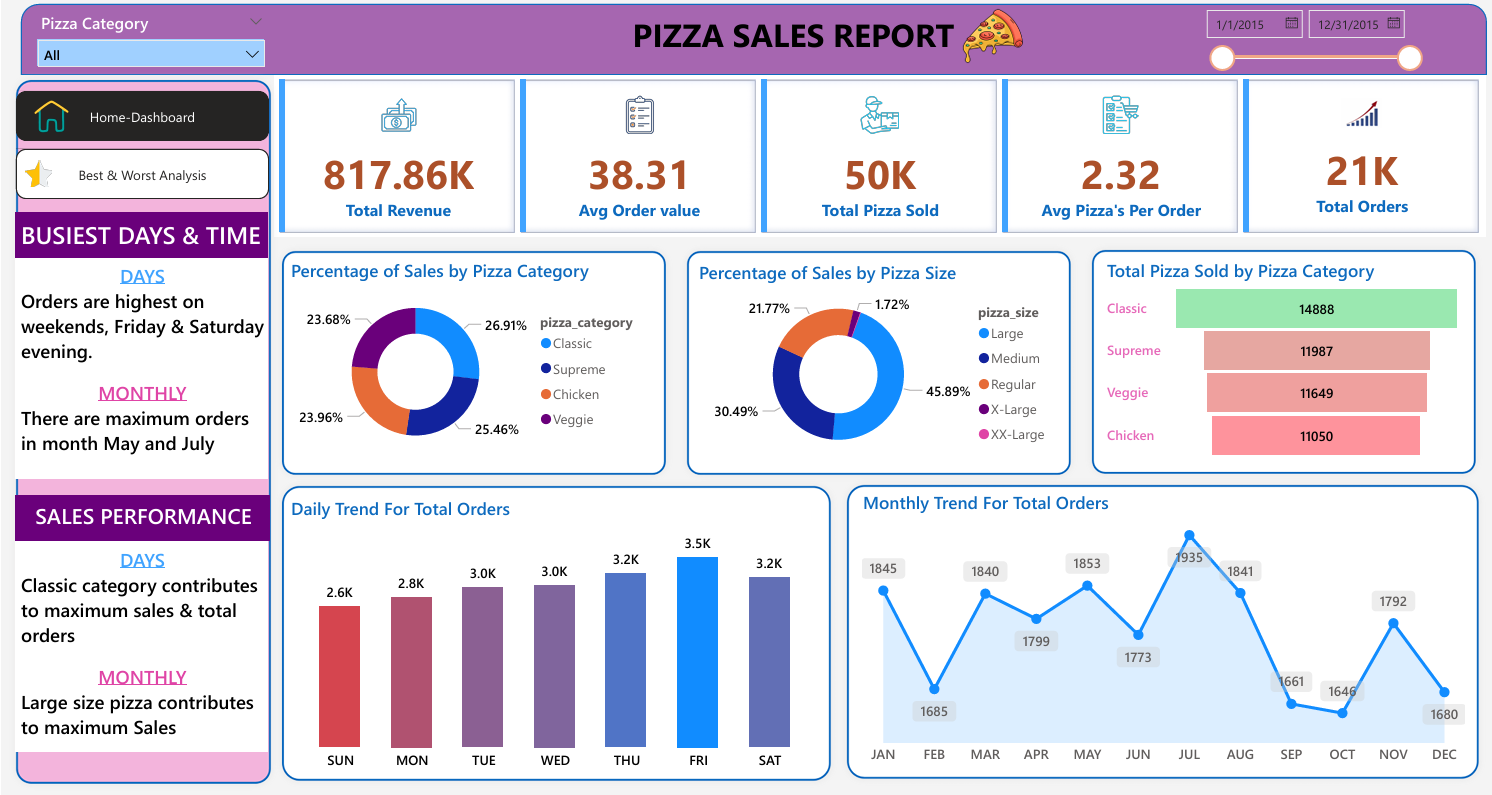

The dashboard page shown, as its layout file describes it:
{"tool":"powerbi","page":{"name":"Home-Dashboard","canvas":[1500,820],"ordinal":0},"visuals":[{"type":"cardVisual","fields":{"Data":["Pizza_sold.Total Revenue","Pizza_sold.Avg Order value","Pizza_sold.Total Pizza Sold","Pizza_sold.Avg Pizza's Per Order","Pizza_sold.Total Orders"]},"box":[273,75.2,1211.6,162.9],"z":0},{"type":"shape","box":[19.5,4.2,1465.1,71],"z":1000},{"type":"textbox","box":[603,7,377.4,59.9],"z":2000},{"type":"shape","box":[271.6,478.1,565.4,310.6],"z":3000},{"type":"columnChart","title":"Daily Trend For Total Orders","fields":{"Category":["Pizza_sold.Order Day"],"Y":["Pizza_sold.Total Orders"]},"box":[284.1,495.8,539,284.1],"z":4000},{"type":"shape","box":[837,476.7,647.6,310.6],"z":5000},{"type":"areaChart","title":"Monthly Trend For Total Orders","fields":{"Category":["Pizza_sold.Order month"],"Y":["Pizza_sold.Total Orders"]},"box":[856.5,490.2,611.4,284.1],"z":6000},{"type":"shape","box":[271.6,243.4,400,240],"z":7000},{"type":"shape","box":[677,243.4,399.7,239.5],"z":8000},{"type":"shape","box":[1082.1,242,399.7,239.5],"z":9000},{"type":"donutChart","title":"Percentage of Sales by Pizza Category","fields":{"Y":["Pizza_sold.Total Revenue"],"Category":["Pizza_sold.pizza_category"]},"box":[284.1,257.6,367.7,206.1],"z":10000},{"type":"donutChart","title":"Percentage of Sales by Pizza Size","fields":{"Y":["Pizza_sold.Total Revenue"],"Category":["Pizza_sold.pizza_size"]},"box":[692.2,260.4,369.1,206.1],"z":11000},{"type":"funnel","title":"Total Pizza Sold by Pizza Category","fields":{"Category":["Pizza_sold.pizza_category"],"Y":["Pizza_sold.Total Pizza Sold"]},"box":[1100.2,257.6,364.9,206.1],"z":12000},{"type":"shape","box":[5.6,72.4,271.6,720],"z":13000},{"type":"textbox","box":[14,258,253,222],"z":14000},{"type":"textbox","box":[13.9,213.1,253.5,46],"z":15000},{"type":"textbox","box":[14,496,255,46],"z":16000},{"type":"textbox","box":[14,542,253,211],"z":17000},{"type":"slicer","fields":{"Values":["Pizza_sold.pizza_category"]},"box":[26.5,7,246.5,68.2],"z":18000},{"type":"slicer","fields":{"Values":["Pizza_sold.order_date"]},"box":[1192.1,0,236.8,75.2],"z":19000},{"type":"pageNavigator","box":[14,91,253,50],"z":20000},{"type":"pageNavigator","box":[14,149,253,50],"z":21000},{"type":"image","box":[954,0,73.8,72.4],"z":22000},{"type":"image","box":[19.5,87.7,59.9,57.1],"z":23000},{"type":"image","box":[19.5,154.6,36.2,39],"z":24000}]}

Visuals, with their boxes in screenshot pixels (x1, y1, x2, y2), scaled from the page's 1500x820 canvas onto the 1492x795 screenshot:
cardVisual - Pizza_sold.Total Revenue x Pizza_sold.Avg Order value: <box>272,73,1477,231</box>
shape: <box>19,4,1477,73</box>
textbox: <box>600,7,975,65</box>
shape: <box>270,464,833,765</box>
"Daily Trend For Total Orders" columnChart: <box>283,481,819,756</box>
shape: <box>833,462,1477,763</box>
"Monthly Trend For Total Orders" areaChart: <box>852,475,1460,751</box>
shape: <box>270,236,668,469</box>
shape: <box>673,236,1071,468</box>
shape: <box>1076,235,1474,467</box>
"Percentage of Sales by Pizza Category" donutChart: <box>283,250,648,450</box>
"Percentage of Sales by Pizza Size" donutChart: <box>689,252,1056,452</box>
"Total Pizza Sold by Pizza Category" funnel: <box>1094,250,1457,450</box>
shape: <box>6,70,276,768</box>
textbox: <box>14,250,266,465</box>
textbox: <box>14,207,266,251</box>
textbox: <box>14,481,268,525</box>
textbox: <box>14,525,266,730</box>
slicer - Pizza_sold.pizza_category: <box>26,7,272,73</box>
slicer - Pizza_sold.order_date: <box>1186,0,1421,73</box>
pageNavigator: <box>14,88,266,137</box>
pageNavigator: <box>14,144,266,193</box>
image: <box>949,0,1022,70</box>
image: <box>19,85,79,140</box>
image: <box>19,150,55,188</box>
